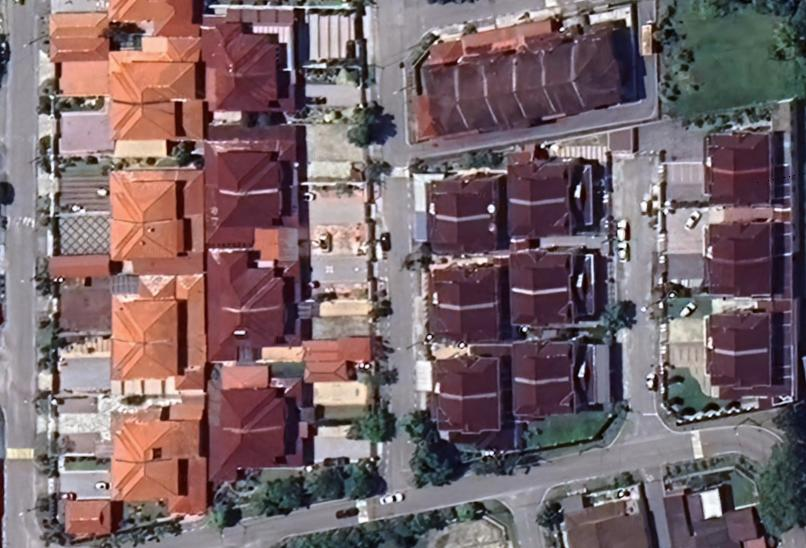building: (411, 63, 474, 144), (577, 24, 634, 109), (206, 426, 287, 485), (201, 18, 279, 78), (105, 59, 197, 106), (216, 253, 285, 315), (505, 138, 571, 198), (703, 251, 776, 301), (111, 293, 182, 344), (700, 163, 774, 211), (217, 386, 287, 435), (433, 355, 503, 404), (490, 52, 534, 129), (704, 344, 774, 392), (548, 39, 590, 118), (424, 177, 495, 223), (430, 267, 499, 314), (214, 149, 281, 197), (522, 47, 563, 125), (511, 373, 579, 419), (110, 339, 181, 383), (462, 58, 504, 132), (108, 218, 178, 262), (428, 307, 503, 348), (109, 179, 177, 224), (505, 196, 573, 241), (109, 461, 179, 504), (423, 217, 498, 257), (702, 216, 776, 256), (507, 284, 575, 327), (431, 397, 505, 436), (112, 420, 175, 465), (507, 247, 576, 288), (108, 101, 177, 141), (215, 311, 287, 349), (704, 308, 774, 347), (702, 129, 775, 166), (215, 192, 284, 229), (214, 76, 280, 114), (511, 340, 578, 377)
